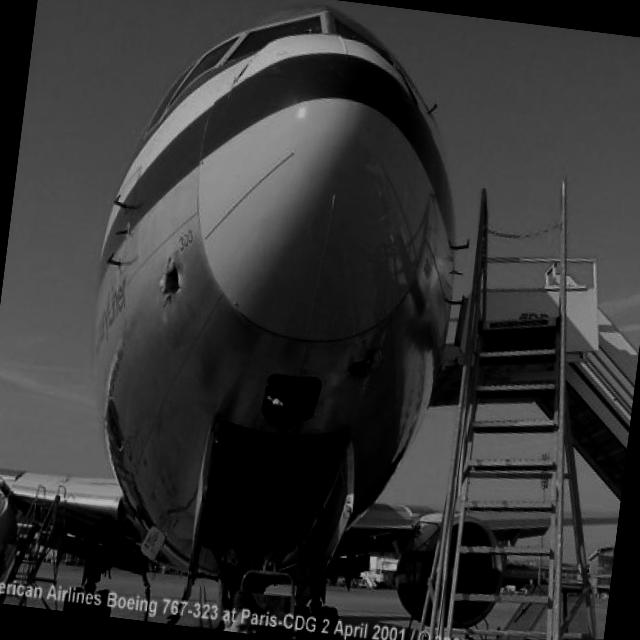dent: (146, 249, 186, 303), (345, 335, 385, 389)
